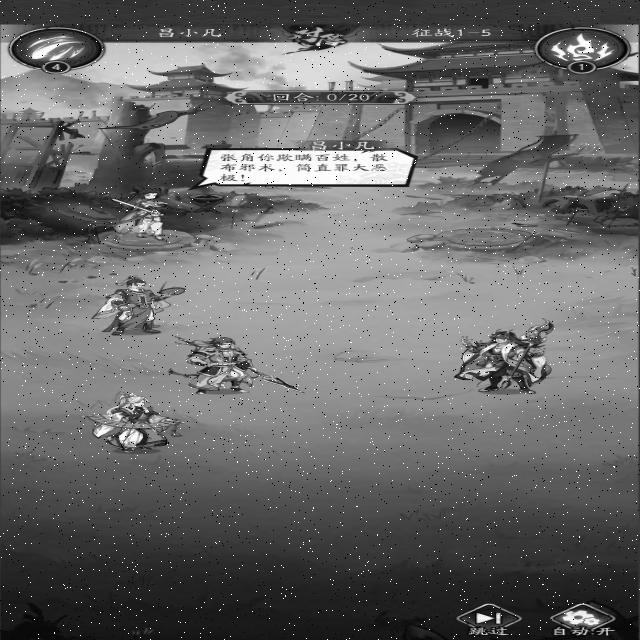system-auto: (541, 600, 626, 640)
system-skip: (453, 600, 524, 639)
